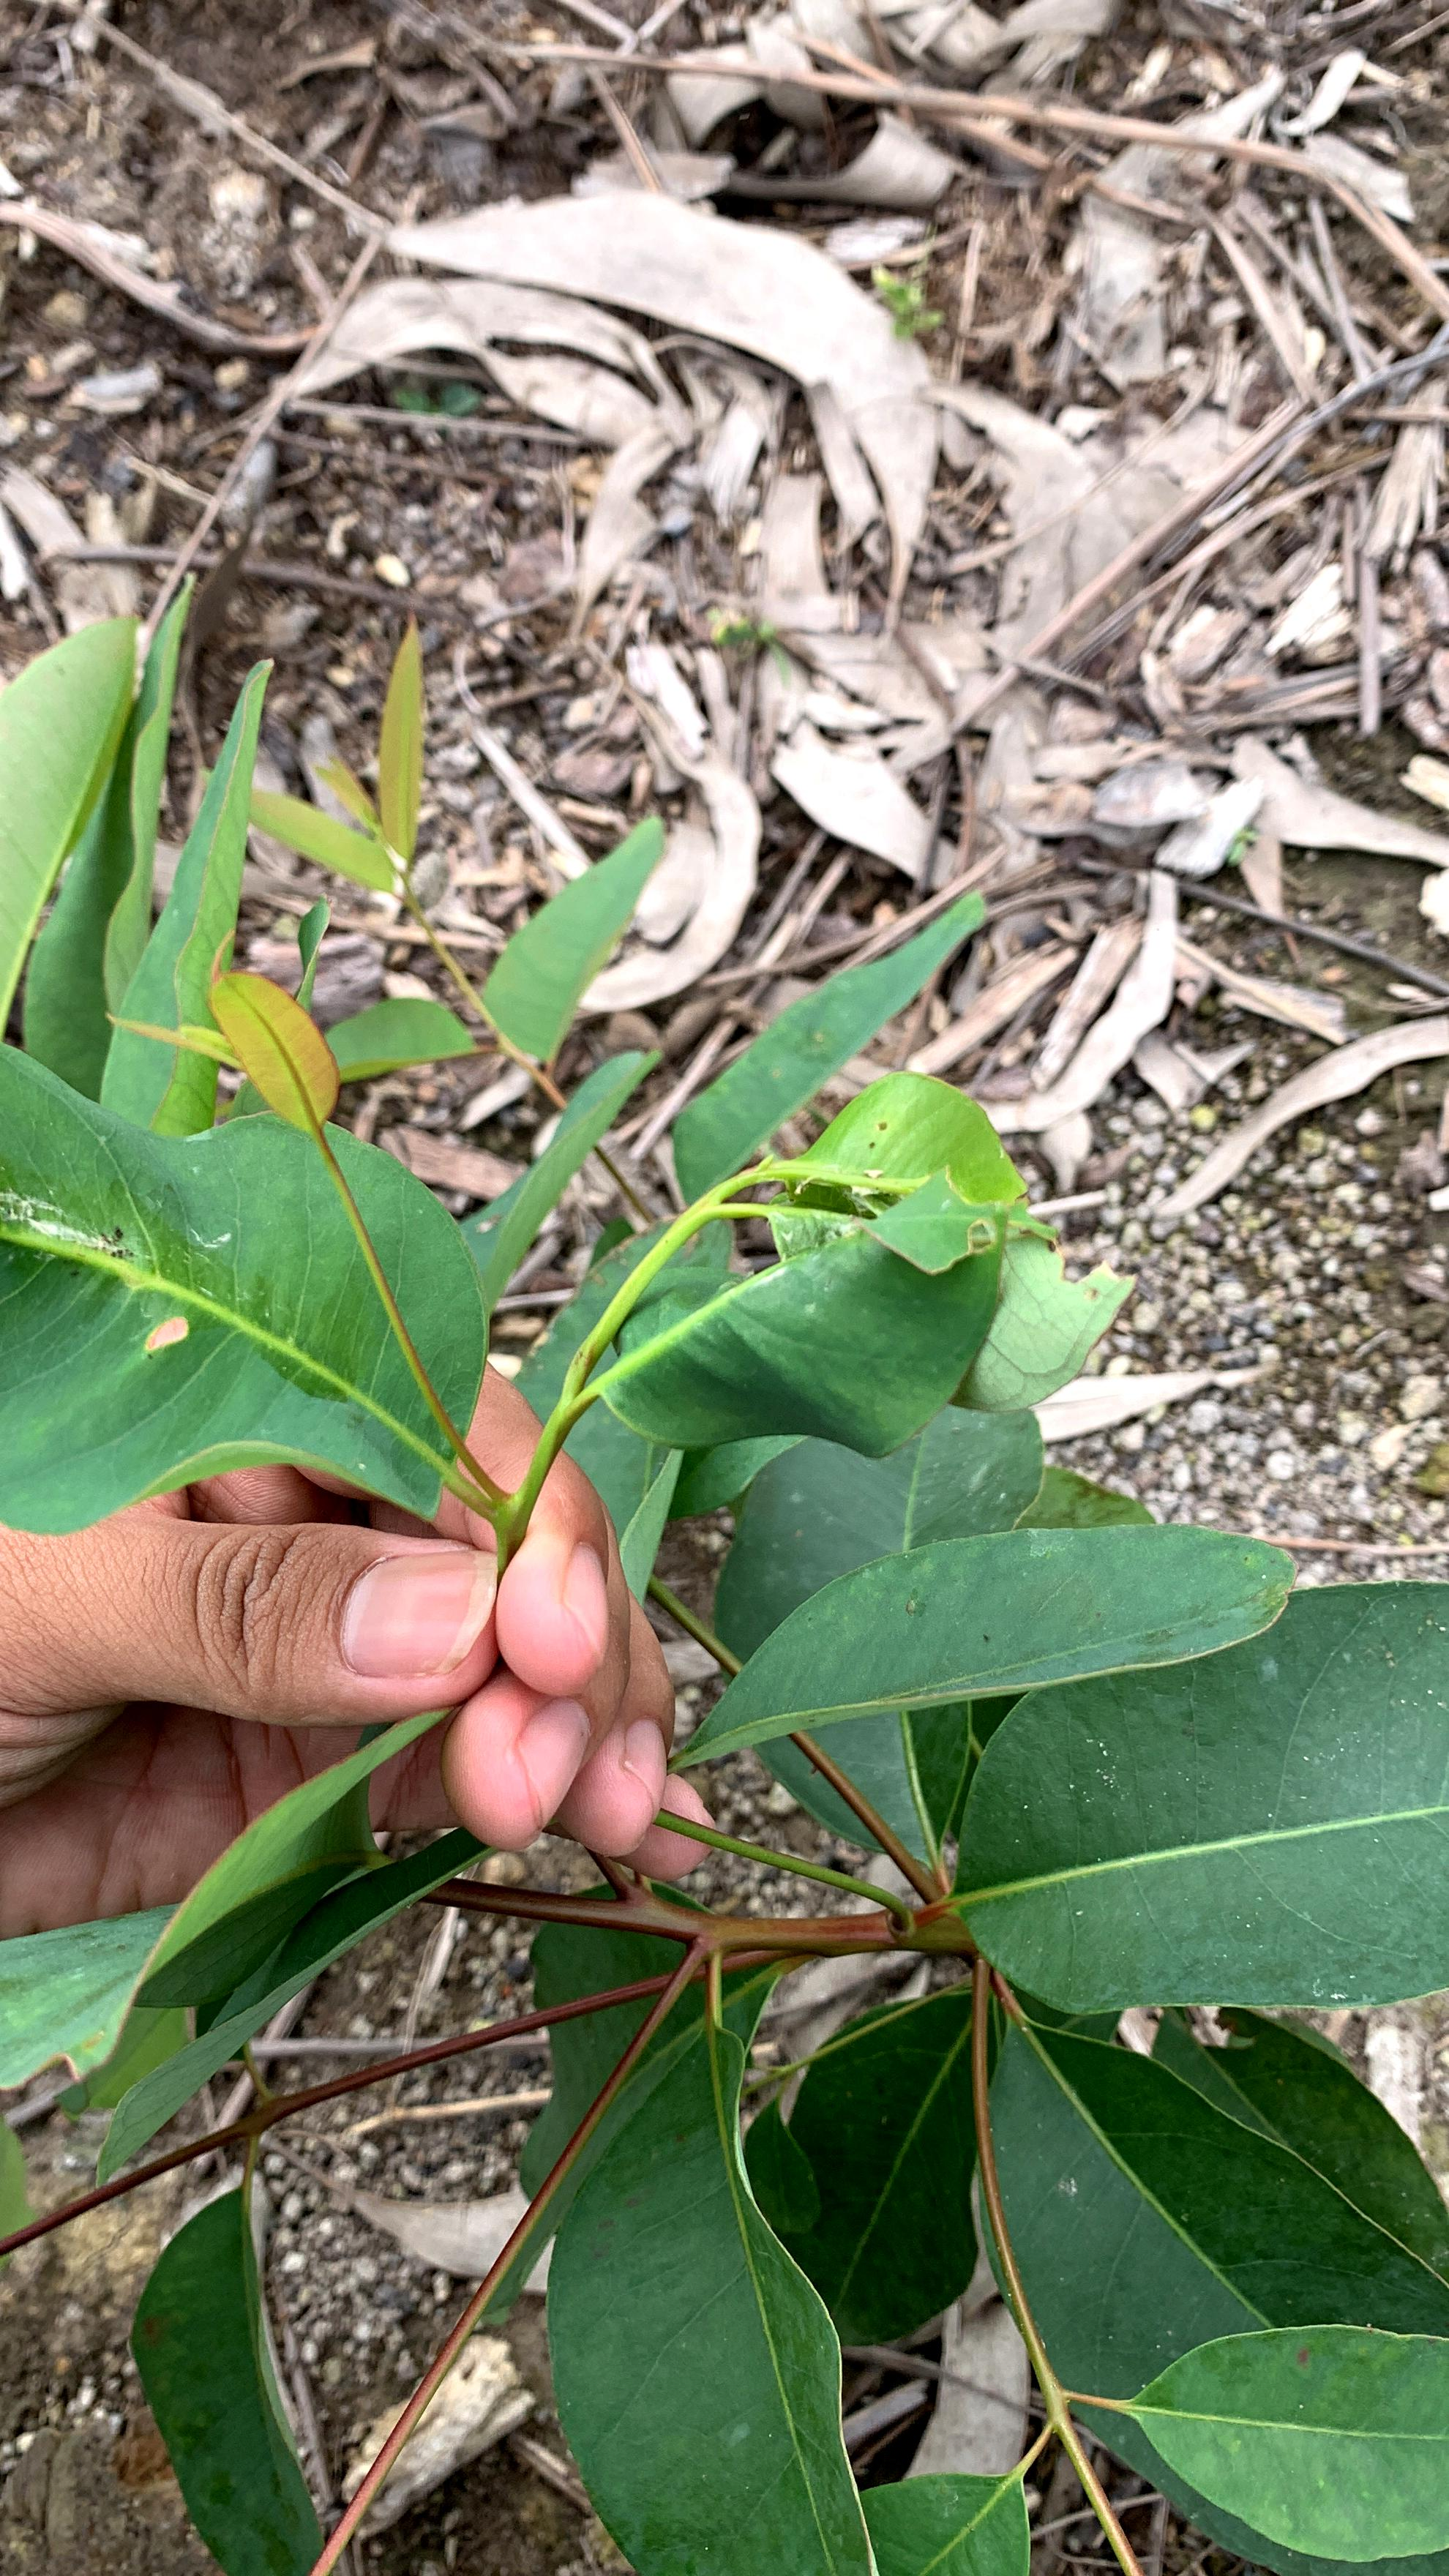Leaf Roller - Leaf: (660, 1074, 1056, 1456)
